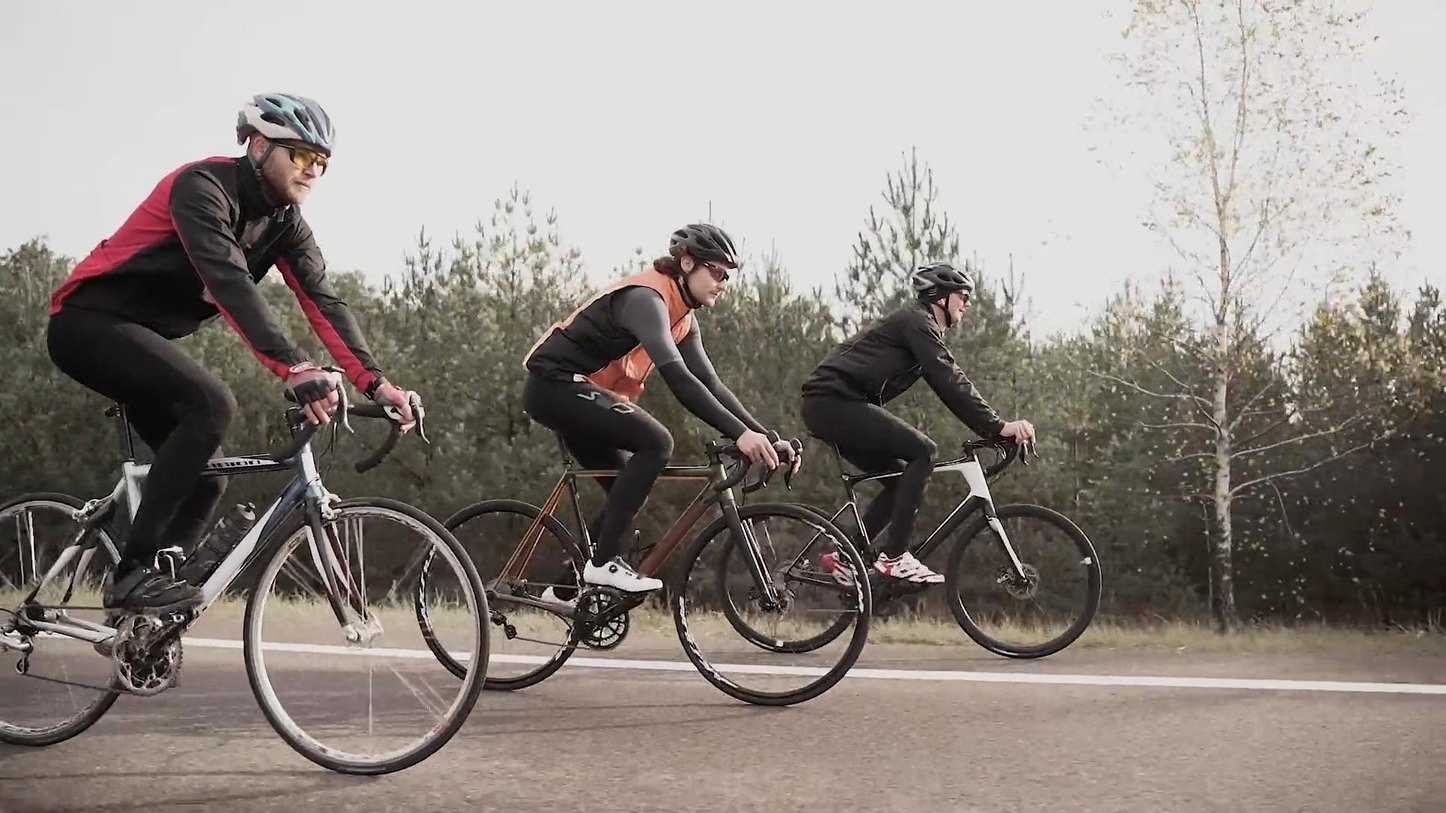bicyclist: (1, 91, 492, 780), (414, 221, 871, 706), (717, 264, 1104, 662)
helmet: (236, 92, 335, 205), (669, 224, 739, 308), (913, 262, 975, 329)
